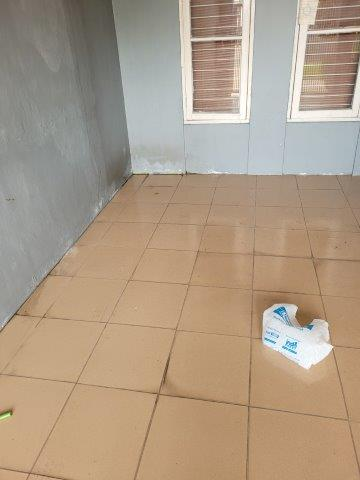plastik: (263, 302, 335, 371)
